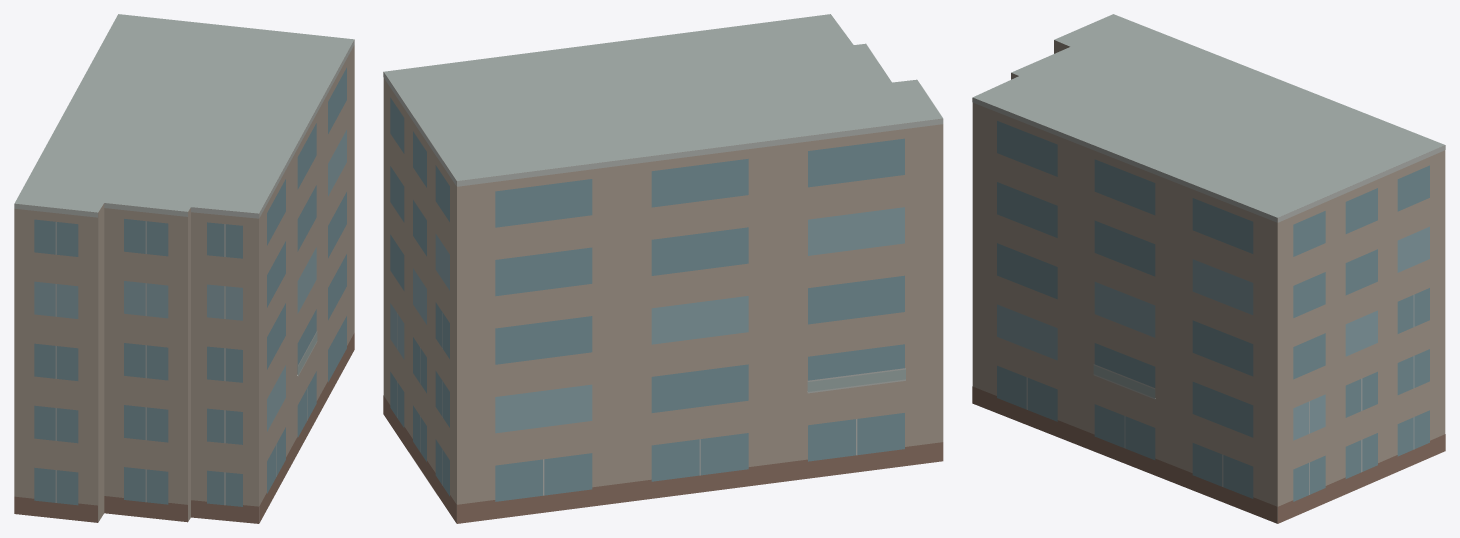
File: survey-upis-32675863.glb
3 renders of one model, left to right at view 1: azimuth 30°, elevation 25°; view 2: azimuth 150°, elevation 25°; view 3: azimuth 270°, elevation 25°, orthographic. The views are drawn at different scales.
Visible parts, largest first — view 1: survey-upis-32675863.tmp; view 2: survey-upis-32675863.tmp; view 3: survey-upis-32675863.tmp.
Boxes of the visible parts, x1,y1,x2,y2 form: survey-upis-32675863.tmp: (14, 14, 354, 523); survey-upis-32675863.tmp: (383, 14, 943, 523); survey-upis-32675863.tmp: (972, 14, 1445, 523).
Bounding box in the file's own units: 21.15 × 14.8 × 20.73.
